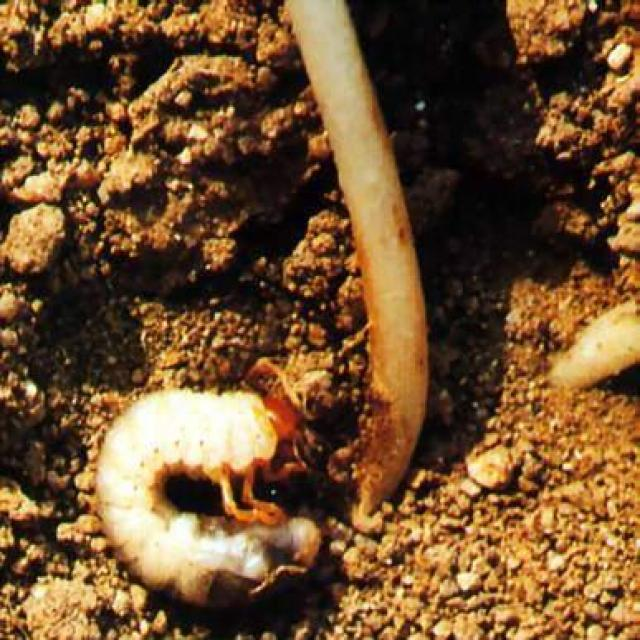Grub-Adult-: (77, 364, 340, 628)
